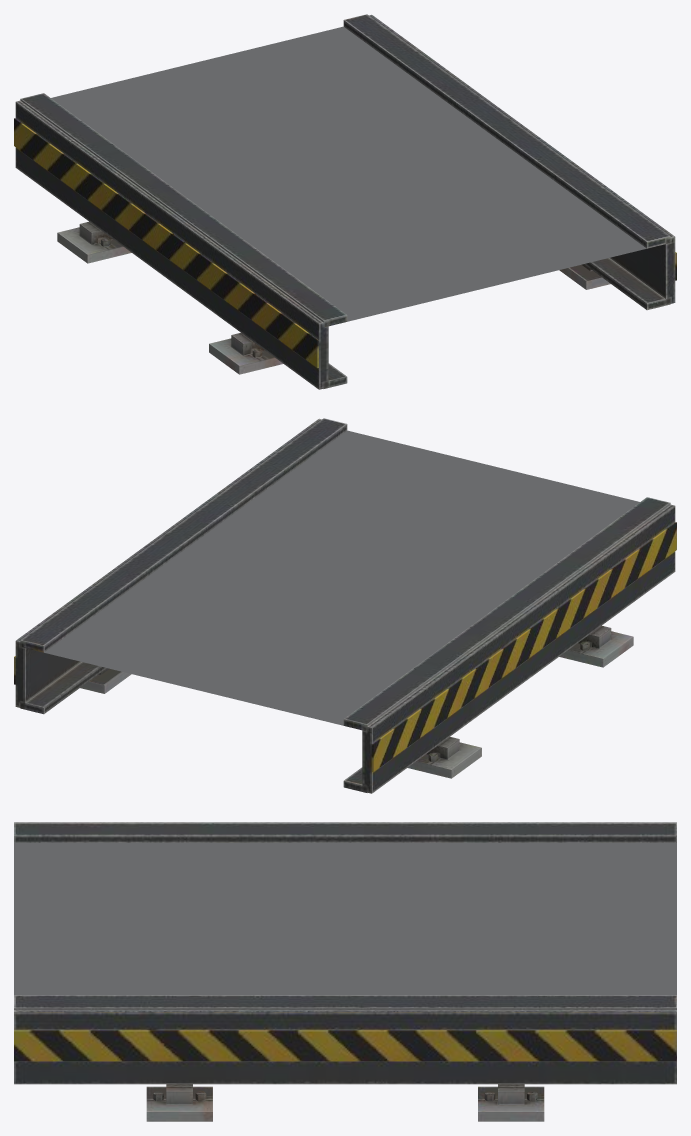
The model's file is esteira_reta.glb.
The picture shows the model from 3 angles, top to bottom: view 1: azimuth 30°, elevation 25°; view 2: azimuth 150°, elevation 25°; view 3: azimuth 270°, elevation 25°; orthographic projection. The views are drawn at different scales.
Parts seen in each view (by area): view 1: esteira_reta_corpo; view 2: esteira_reta_corpo; view 3: esteira_reta_corpo.
Boxes of the visible parts, x1,y1,x2,y2 form: esteira_reta_corpo: (14, 14, 676, 389); esteira_reta_corpo: (14, 418, 676, 793); esteira_reta_corpo: (14, 822, 676, 1121).
Bounding box in the file's own units: 0.75 × 0.168 × 1.
Materials: 2 (1 with a texture image).
